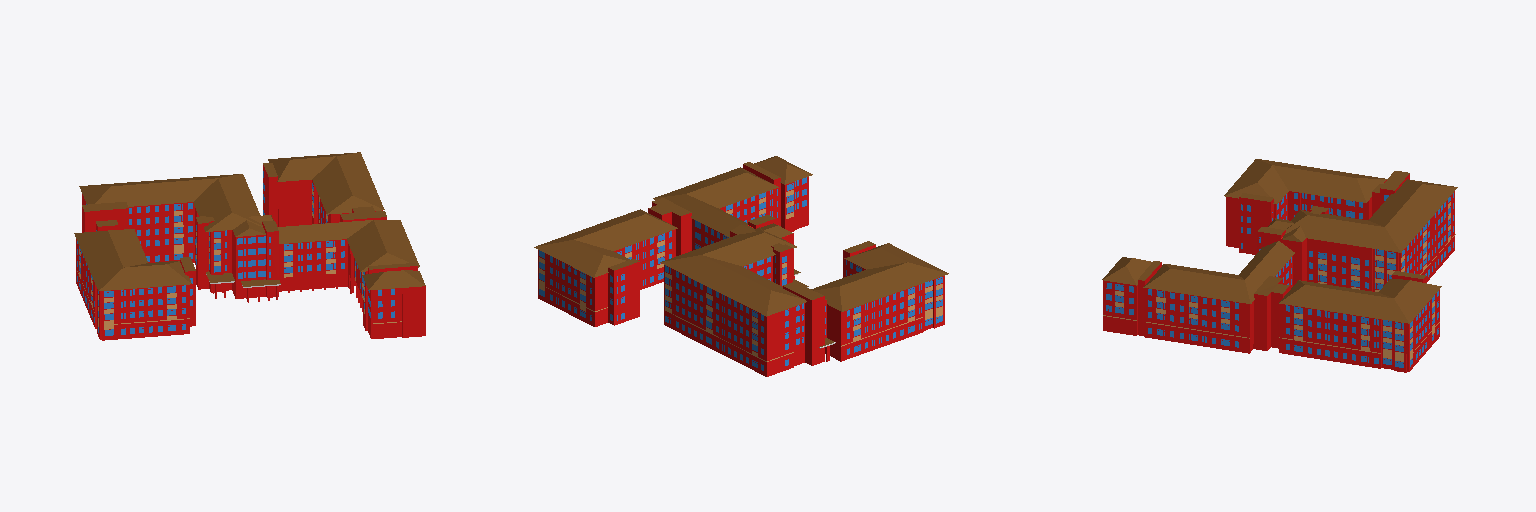
File: HarborHall.obj
The picture shows the model from 3 angles: view 1: azimuth 30°, elevation 25°; view 2: azimuth 150°, elevation 25°; view 3: azimuth 270°, elevation 25°; orthographic projection.
Parts seen in each view (by area): view 1: SM_Harbor_RoofWndws, SM_Harbor_Bldg; view 2: SM_Harbor_Bldg, SM_Harbor_RoofWndws; view 3: SM_Harbor_RoofWndws, SM_Harbor_Bldg.
Part boxes in pixels (x1,y1,x2,y2): SM_Harbor_RoofWndws: (74, 152, 425, 335); SM_Harbor_Bldg: (76, 163, 425, 340); SM_Harbor_Bldg: (538, 162, 944, 376); SM_Harbor_RoofWndws: (534, 156, 948, 370); SM_Harbor_RoofWndws: (1102, 159, 1457, 367); SM_Harbor_Bldg: (1103, 171, 1455, 372).
Size of the model in its own units: 11253 by 2282 by 10239.